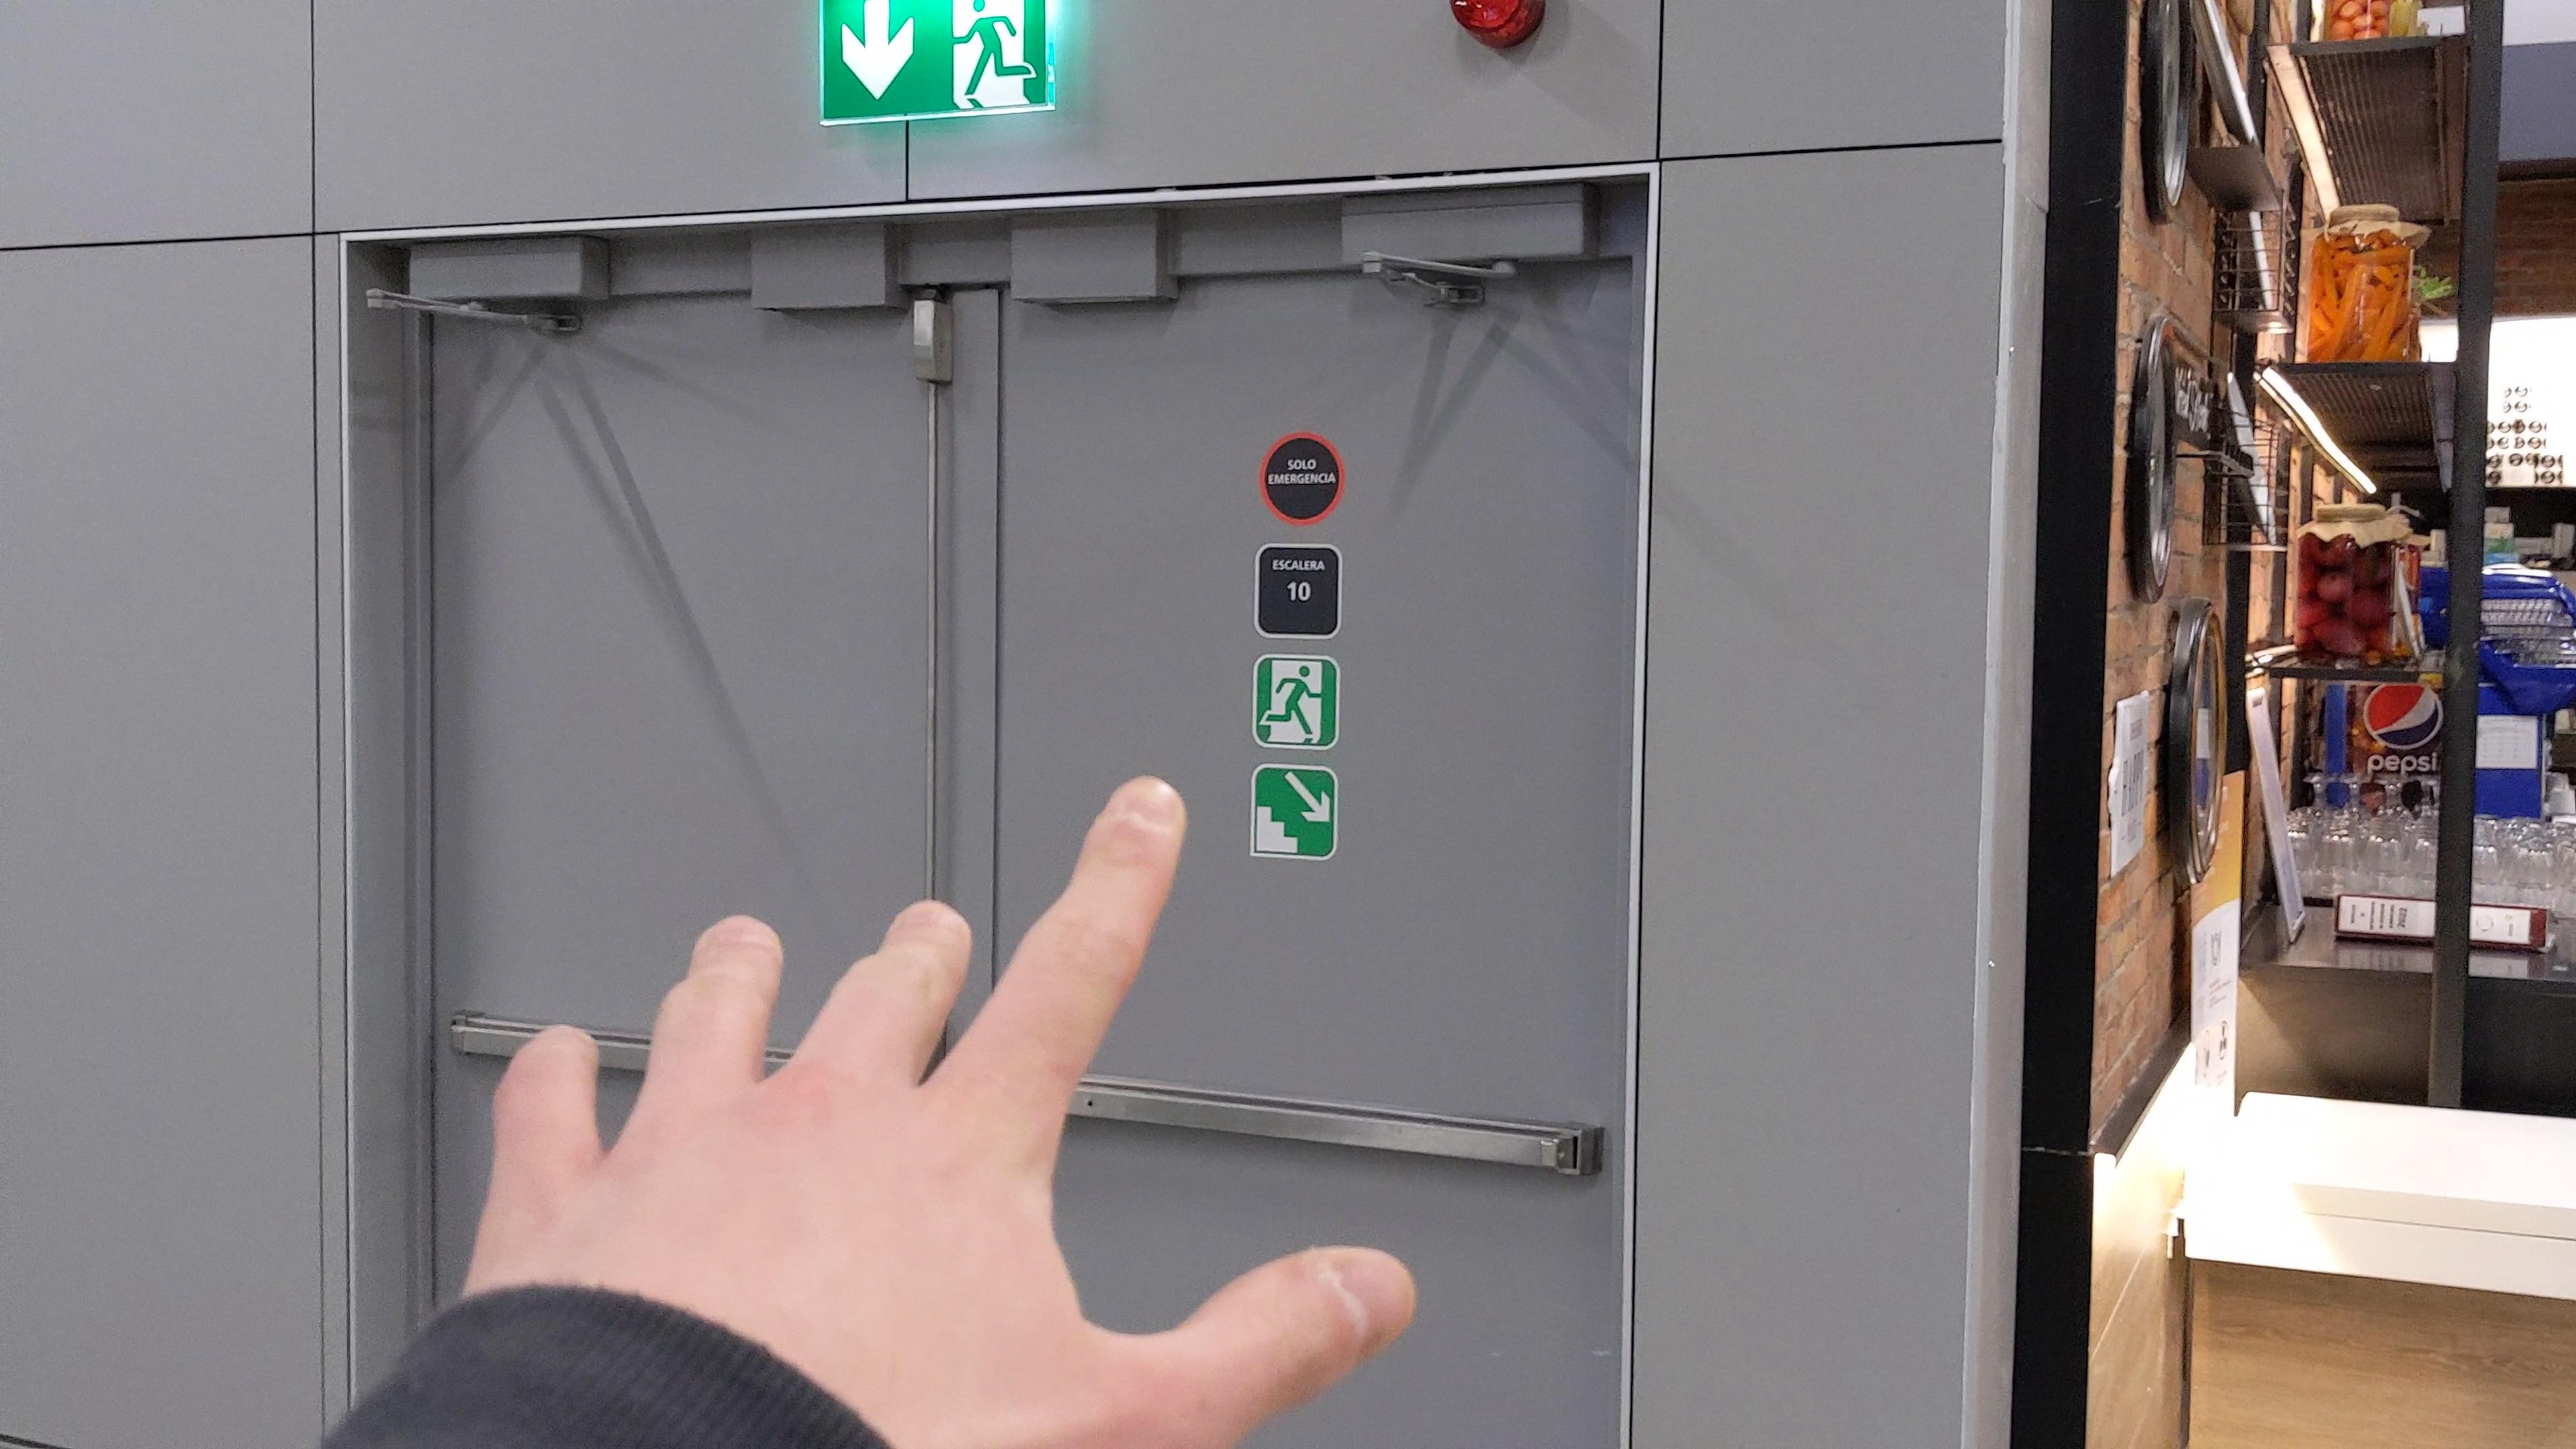emergency exit: (949, 0, 1039, 116), (839, 0, 918, 109), (1258, 662, 1330, 746)
